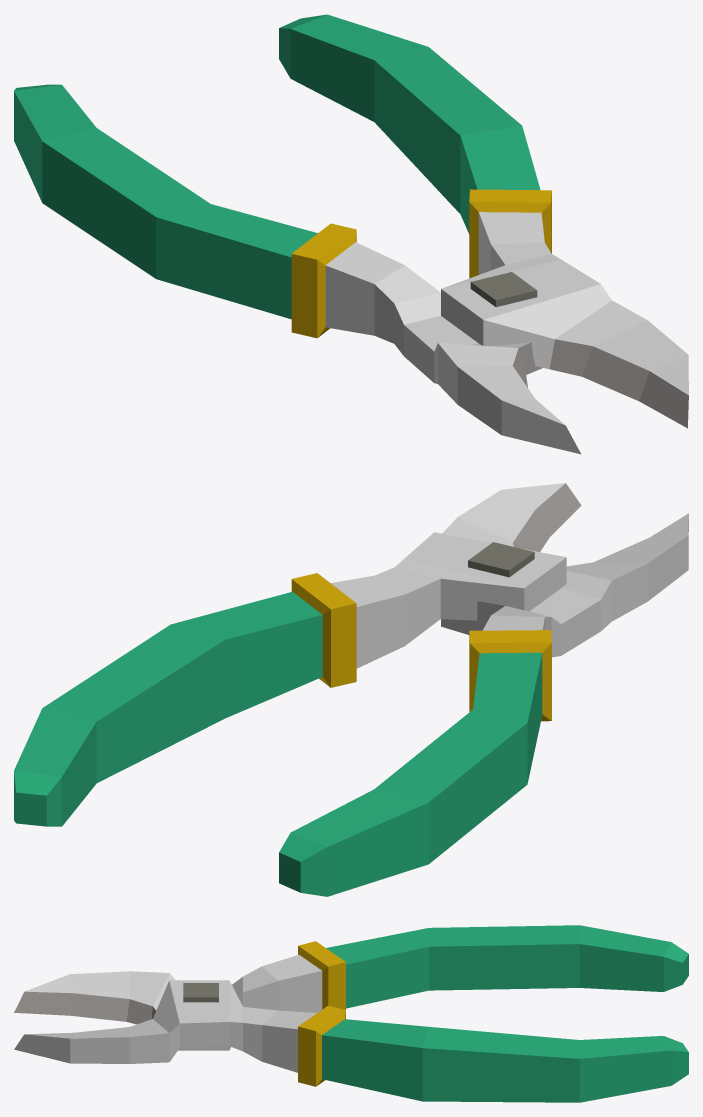
File: SM_Tool_Wirecutter_01.fbx
3 renders of one model, top to bottom at view 1: azimuth 30°, elevation 25°; view 2: azimuth 150°, elevation 25°; view 3: azimuth 270°, elevation 25°, orthographic. The views are drawn at different scales.
Parts seen in each view (by area): view 1: SM_Tool_Wirecutter_01; view 2: SM_Tool_Wirecutter_01; view 3: SM_Tool_Wirecutter_01.
Boxes of the visible parts, x1,y1,x2,y2 form: SM_Tool_Wirecutter_01: (14,14,688,454); SM_Tool_Wirecutter_01: (14,483,688,896); SM_Tool_Wirecutter_01: (14,925,688,1102).
Bounding box in the file's own units: 15.04 × 2.93 × 32.11.
1 material, 1 textured.
